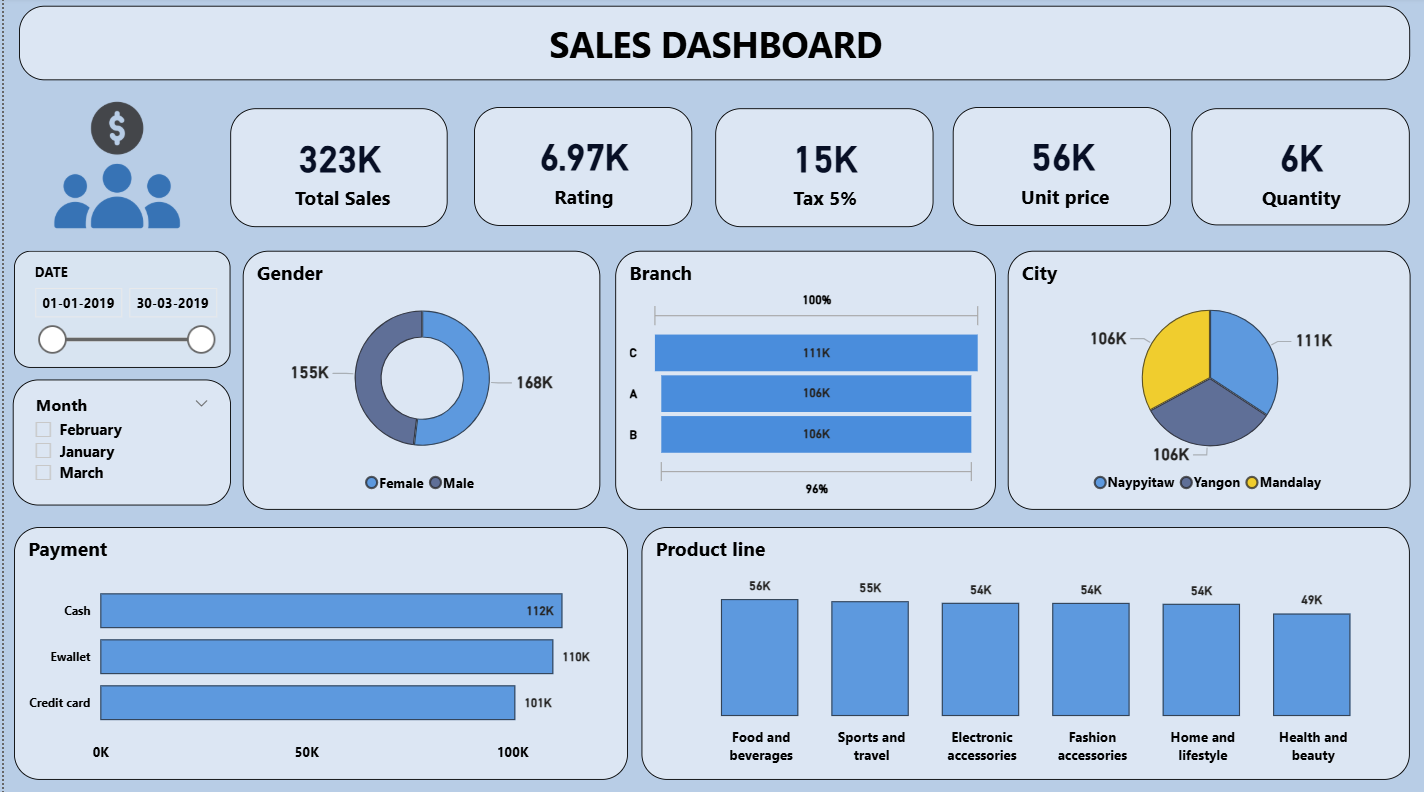

The page's visual inventory and layout, read from the dashboard file:
{"tool":"powerbi","page":{"name":"Dashboard","canvas":[1280,720],"ordinal":0},"visuals":[{"type":"card","fields":{"Values":["Sum(D6.Total)"]},"box":[204,100.3,196.1,107.1],"z":0},{"type":"textbox","box":[14,8.1,1254.7,67.4],"z":1000},{"type":"pieChart","title":" City","fields":{"Category":["D6.City"],"Y":["Sum(D6.Total)"]},"box":[904.9,228.7,363.2,233.6],"z":2000},{"type":"clusteredColumnChart","title":" Product line","fields":{"Category":["D6.Product line"],"Y":["Sum(D6.Total)"]},"box":[574.8,477.9,693.2,227.7],"z":3000},{"type":"donutChart","title":"Gender","fields":{"Category":["D6.Gender"],"Y":["Sum(D6.Total)"]},"box":[215.1,229.1,322.1,233.7],"z":4000},{"type":"barChart","title":"Payment","fields":{"Category":["D6.Payment"],"Y":["Sum(D6.Total)"]},"box":[9,477.9,553.4,227.7],"z":5000},{"type":"funnel","title":"Branch","fields":{"Category":["D6.Branch"],"Y":["Sum(D6.Total)"]},"box":[551.2,229.1,343,233.7],"z":6000},{"type":"card","fields":{"Values":["Sum(D6.Tax 5%)"]},"box":[641.9,100,196.5,107],"z":11000},{"type":"card","fields":{"Values":["Sum(D6.Unit price)"]},"box":[855.8,98.8,196.5,107],"z":12000},{"type":"card","fields":{"Values":["Sum(D6.Quantity)"]},"box":[1070.9,100,196.5,105.8],"z":13000},{"type":"slicer","fields":{"Values":["D6.month"]},"box":[9.3,229.1,195.3,105.8],"z":14001},{"type":"card","fields":{"Values":["Sum(D6.Rating)"]},"box":[423.3,98.8,196.5,107],"z":14002},{"type":"slicer","fields":{"Values":["D6.month"]},"box":[8.1,345.3,196.5,114],"z":14004},{"type":"image","box":[0,75.5,204,152.2],"z":14006}]}

Visuals, with their boxes in screenshot pixels (x1, y1, x2, y2), scaled from the page's 1280x720 canvas onto the 1424x792 screenshot:
card - Sum(D6.Total): BBox(227, 110, 445, 228)
textbox: BBox(16, 9, 1411, 83)
" City" pieChart: BBox(1007, 252, 1411, 509)
" Product line" clusteredColumnChart: BBox(639, 526, 1411, 776)
"Gender" donutChart: BBox(239, 252, 598, 509)
"Payment" barChart: BBox(10, 526, 626, 776)
"Branch" funnel: BBox(613, 252, 995, 509)
card - Sum(D6.Tax 5%): BBox(714, 110, 933, 228)
card - Sum(D6.Unit price): BBox(952, 109, 1171, 226)
card - Sum(D6.Quantity): BBox(1191, 110, 1410, 226)
slicer - D6.month: BBox(10, 252, 228, 368)
card - Sum(D6.Rating): BBox(471, 109, 690, 226)
slicer - D6.month: BBox(9, 380, 228, 505)
image: BBox(0, 83, 227, 250)
